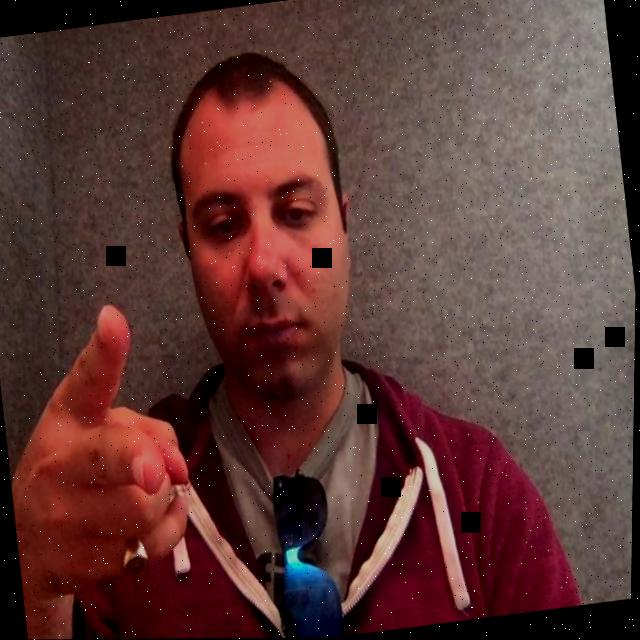Scissors: (0, 290, 213, 618)
